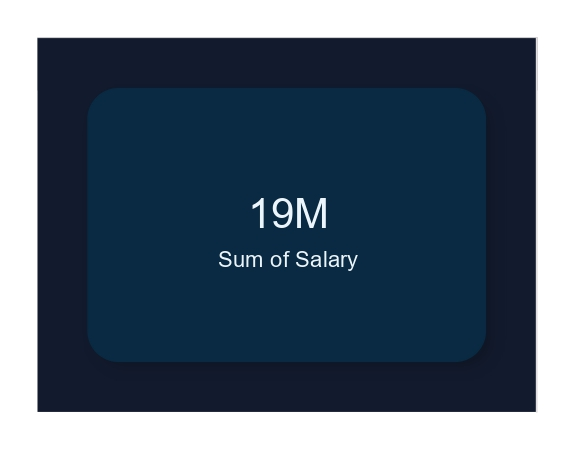

The dashboard page shown, as its layout file describes it:
{"tool":"powerbi","page":{"name":"Tooltip","canvas":[320,240],"ordinal":1},"visuals":[{"type":"card","fields":{"Values":["Sum(Company_Details.Salary)"]},"box":[32,32,256,176],"z":0}]}

Visuals, with their boxes on the page's 320x240 design canvas (x1, y1, x2, y2). These are canvas units, not pixel positions in the 575x450 screenshot, which may show the page scaled, cropped or inside an application window:
card - Sum(Company_Details.Salary): (32,32,288,208)
